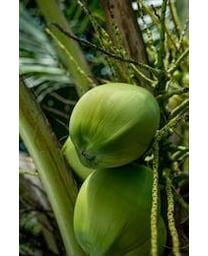coconut: (70, 165, 167, 255), (69, 78, 160, 169)
